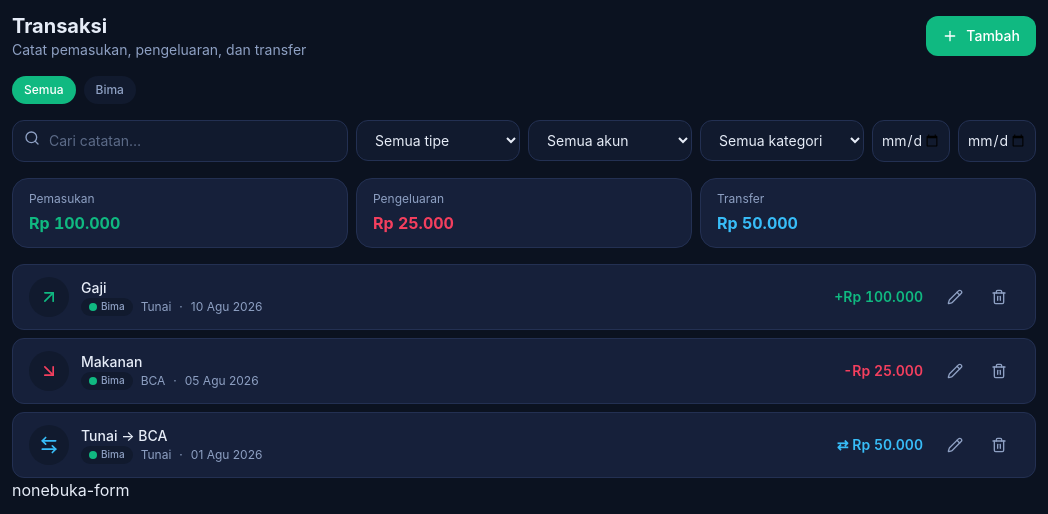
TransactionsPage › lists transactions with summary totals and filters them by type and search
Expected: the text "+Rp 100.000" is shown, [834,287,923,307]
Expected: the text "-Rp 25.000" is shown, [843,361,923,381]
Step 1. Select "Pemasukan" in the dropdown named "Tipe transaksi" → (438,140), box [356,120,520,161]
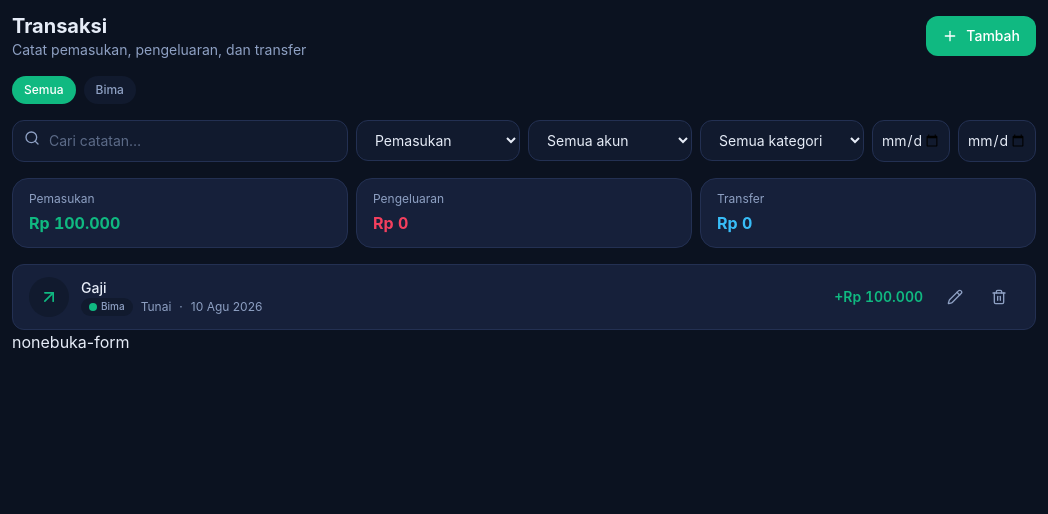
Expected: the text "+Rp 100.000" is shown, [834,287,923,307]
Expected: the text "-Rp 25.000" is gone
Expected: the text "Rp 25.000" is gone
Step 2. Select "Semua tipe" in the dropdown named "Tipe transaksi" → (438,140), box [356,120,520,161]
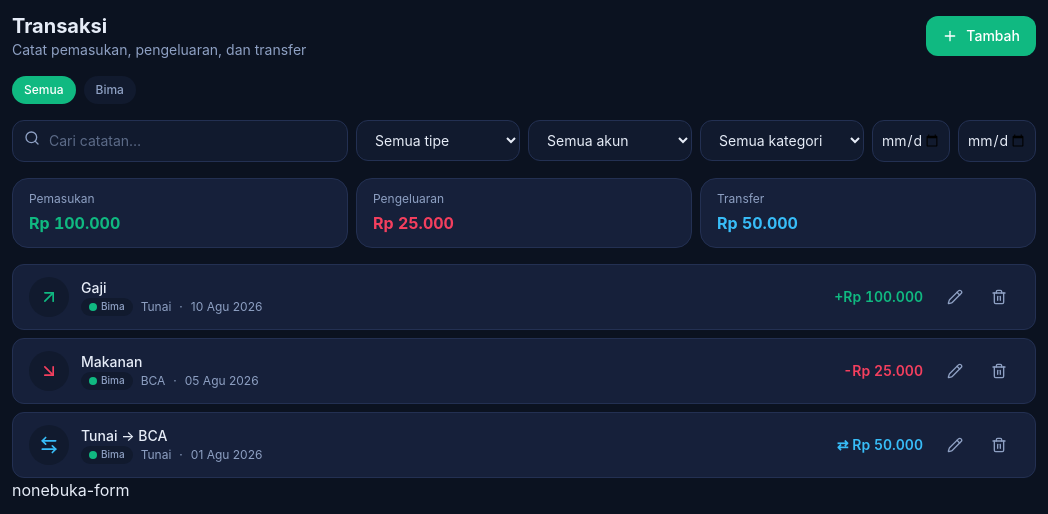
Step 3. Type "kopi" into the field labelled "Cari" → (180,141), box [12,120,348,162]
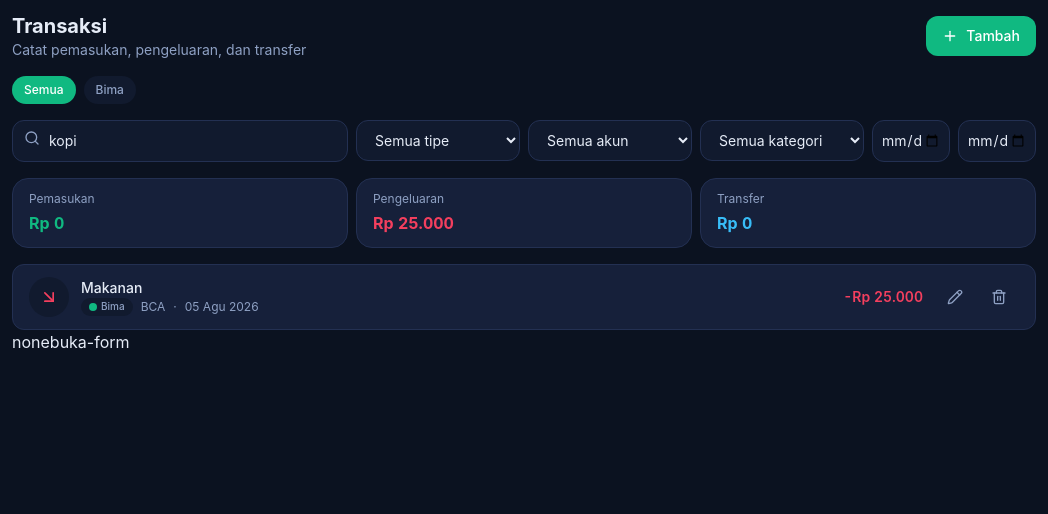
Expected: the text "-Rp 25.000" is shown, [843,287,923,307]
Expected: the text "Rp 25.000" is shown, [373,213,454,233]
Expected: the text "+Rp 100.000" is gone
